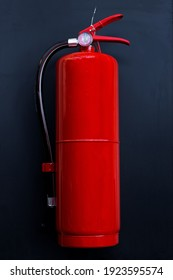fire_extinguisher: (36, 7, 130, 249)
